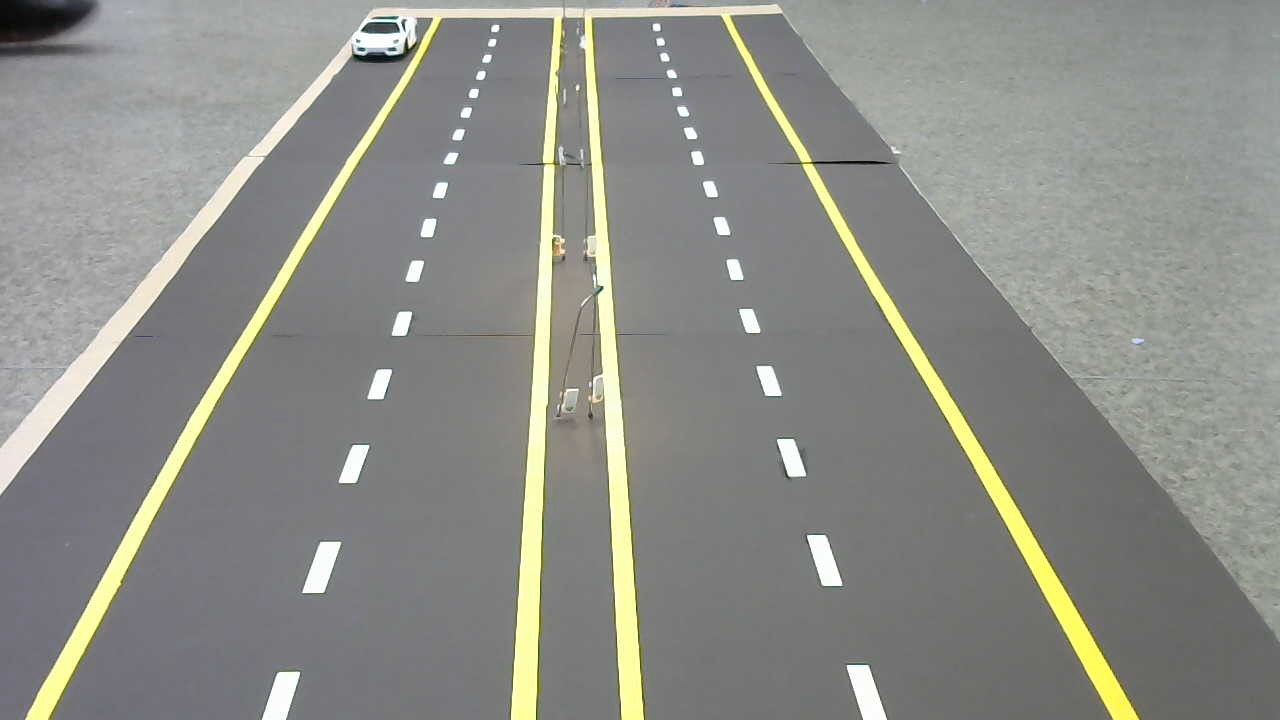front_car: (351, 13, 416, 61)
